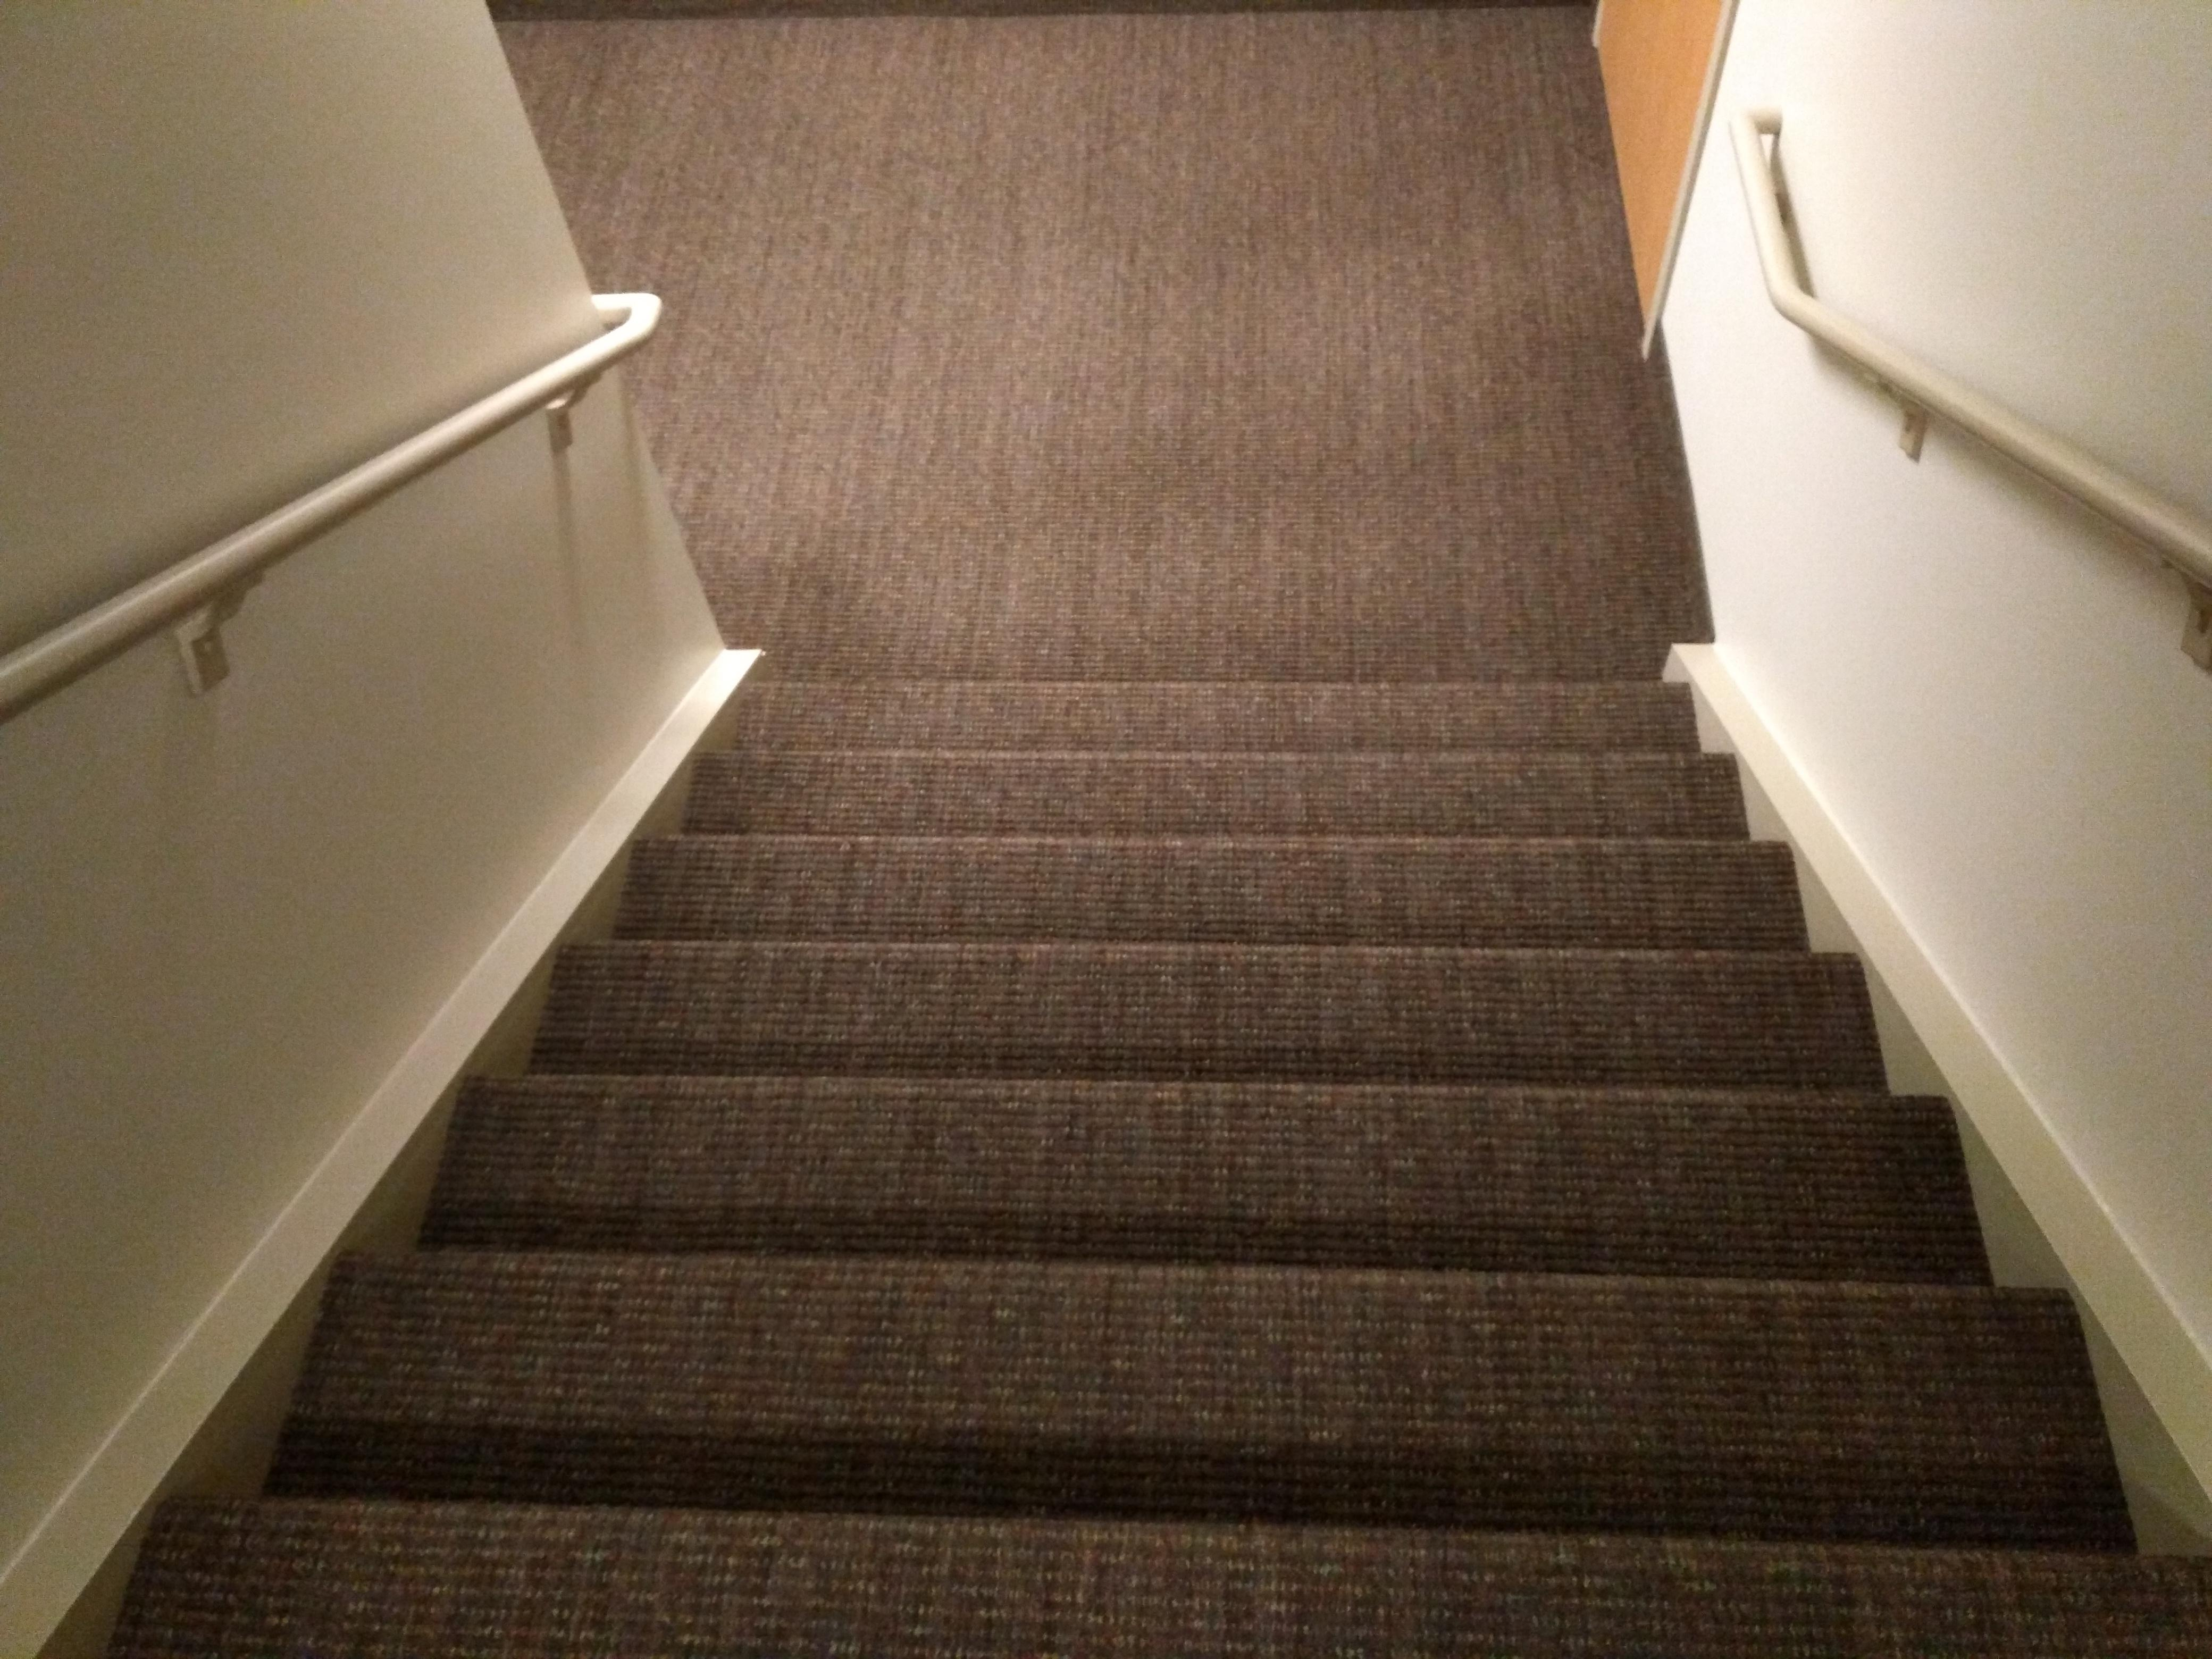stairs_down: (216, 648, 2177, 1560)
